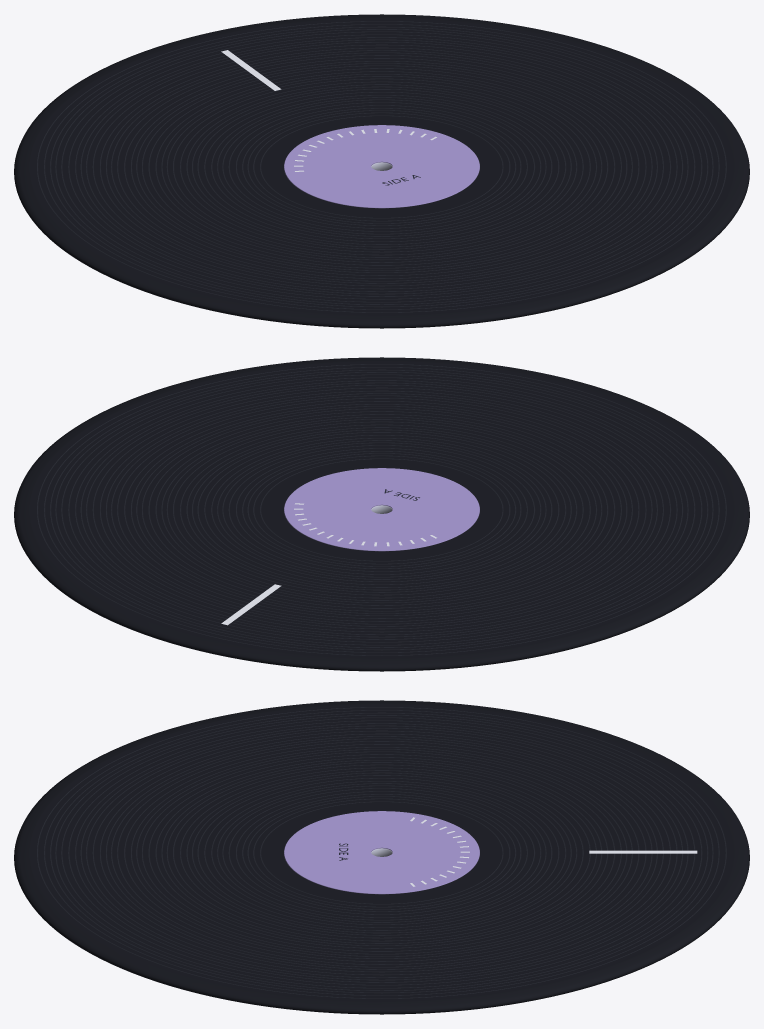
The model's file is BoothRecord.fbx.
3 views of the same model, one above another, from view 1: azimuth 30°, elevation 25°; view 2: azimuth 150°, elevation 25°; view 3: azimuth 270°, elevation 25° (orthographic).
Parts seen in each view (by area): view 1: DotRecordDoubleSided; view 2: DotRecordDoubleSided; view 3: DotRecordDoubleSided.
Boxes of the visible parts, x1,y1,x2,y2 form: DotRecordDoubleSided: (14, 14, 749, 328); DotRecordDoubleSided: (14, 357, 749, 671); DotRecordDoubleSided: (14, 700, 749, 1014).
Bounding box in the file's own units: 0.662 × 0.662 × 0.0108.
